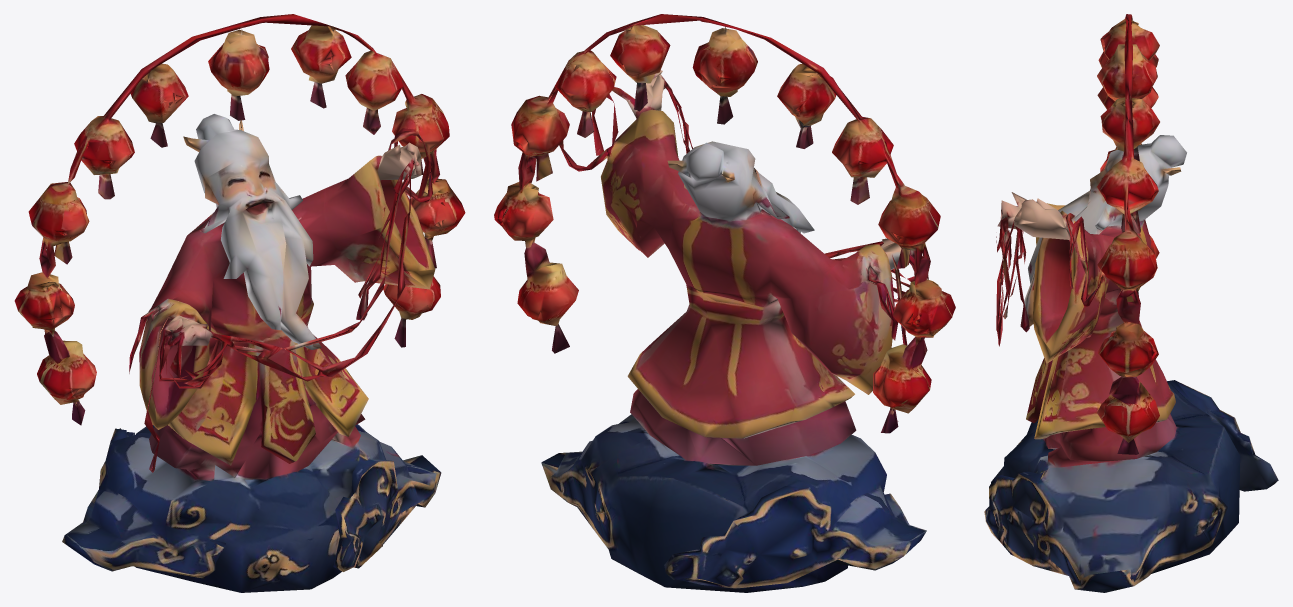
File: ss_tianxi.glb
The picture shows the model from 3 angles, left to right: view 1: azimuth 30°, elevation 25°; view 2: azimuth 150°, elevation 25°; view 3: azimuth 270°, elevation 25°; orthographic projection. The views are drawn at different scales.
Visible parts, largest first — view 1: tripo_node_28d47494-0c90-49c8-95dc-72c6e9689374; view 2: tripo_node_28d47494-0c90-49c8-95dc-72c6e9689374; view 3: tripo_node_28d47494-0c90-49c8-95dc-72c6e9689374.
Part boxes in pixels (x1,y1,x2,y2): tripo_node_28d47494-0c90-49c8-95dc-72c6e9689374: [14, 14, 465, 592]; tripo_node_28d47494-0c90-49c8-95dc-72c6e9689374: [494, 14, 955, 592]; tripo_node_28d47494-0c90-49c8-95dc-72c6e9689374: [984, 14, 1278, 592].
Bounding box in the file's own units: 0.8986 × 0.9936 × 0.5414.
Materials: 1 (1 with a texture image).
